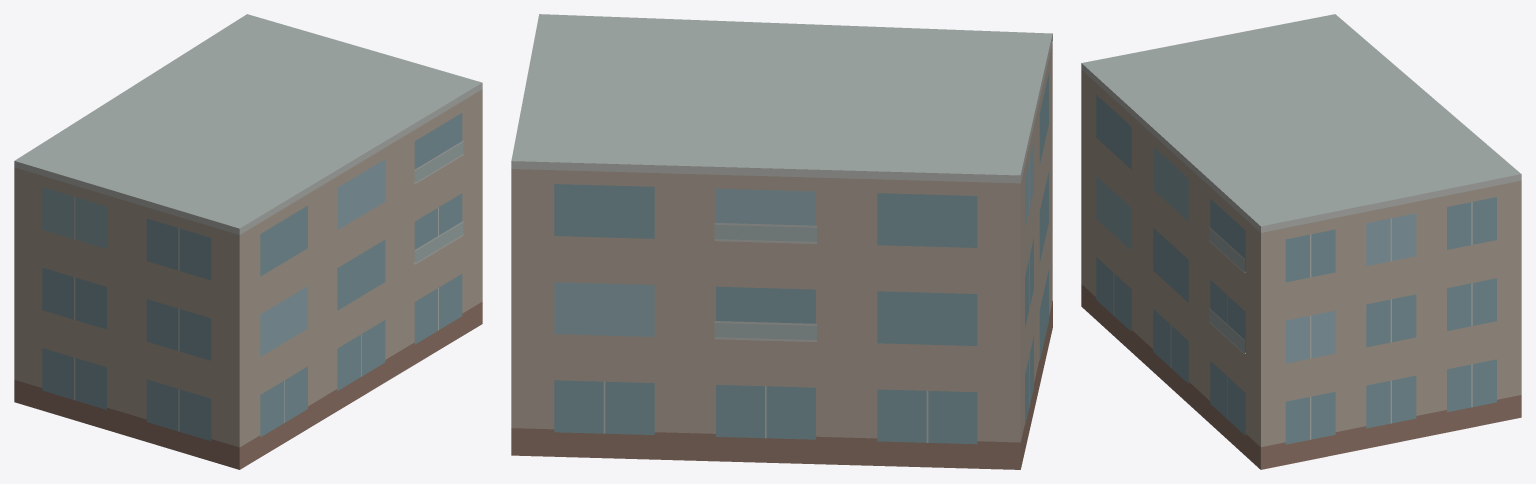
File: survey-upis-32700489.glb
3 renders of one model, left to right at view 1: azimuth 30°, elevation 25°; view 2: azimuth 150°, elevation 25°; view 3: azimuth 270°, elevation 25°, orthographic. The views are drawn at different scales.
Parts seen in each view (by area): view 1: survey-upis-32700489.tmp; view 2: survey-upis-32700489.tmp; view 3: survey-upis-32700489.tmp.
Part boxes in pixels (x1,y1,x2,y2): survey-upis-32700489.tmp: [14, 14, 482, 469]; survey-upis-32700489.tmp: [511, 14, 1052, 469]; survey-upis-32700489.tmp: [1081, 14, 1521, 469].
Bounding box in the file's own units: 17.13 × 9.15 × 15.
